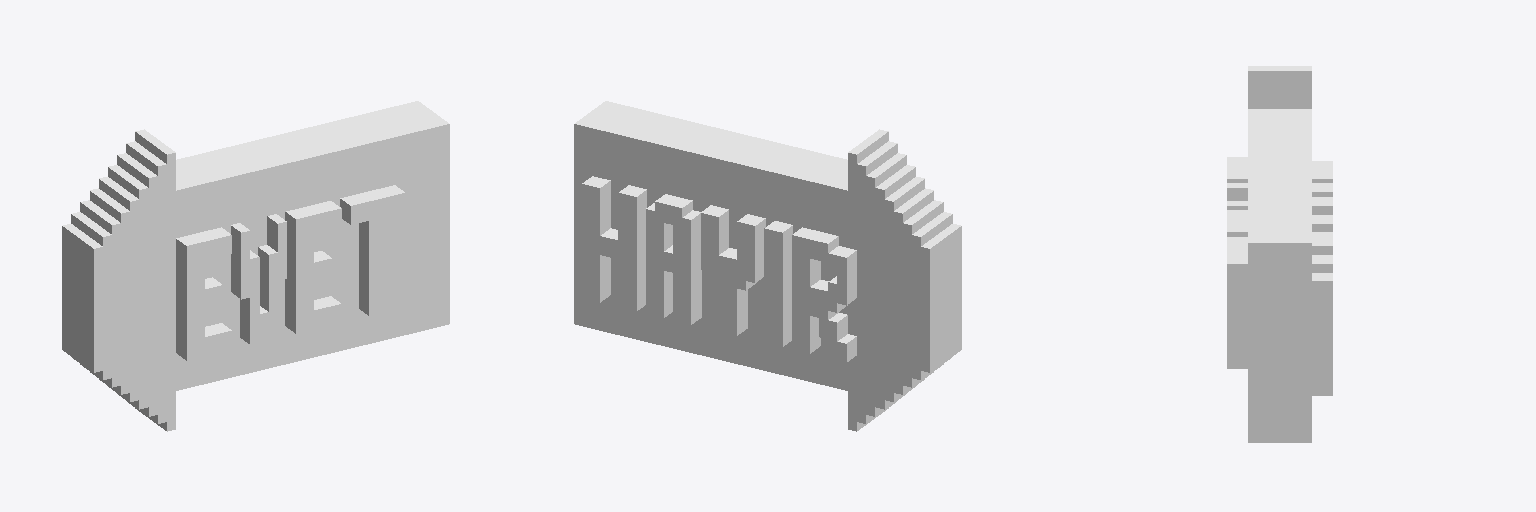
The model's file is evethayirters.obj.
The picture shows the model from 3 angles: view 1: azimuth 30°, elevation 25°; view 2: azimuth 150°, elevation 25°; view 3: azimuth 270°, elevation 25°; orthographic projection.
Parts seen in each view (by area): view 1: object 1; view 2: object 1; view 3: object 1.
Boxes of the visible parts, box(x1,y1,x2,y2) form: object 1: box(62, 101, 449, 431); object 1: box(574, 101, 961, 431); object 1: box(1227, 66, 1332, 442).
Size of the model in its own units: 3.9 by 2.9 by 1.